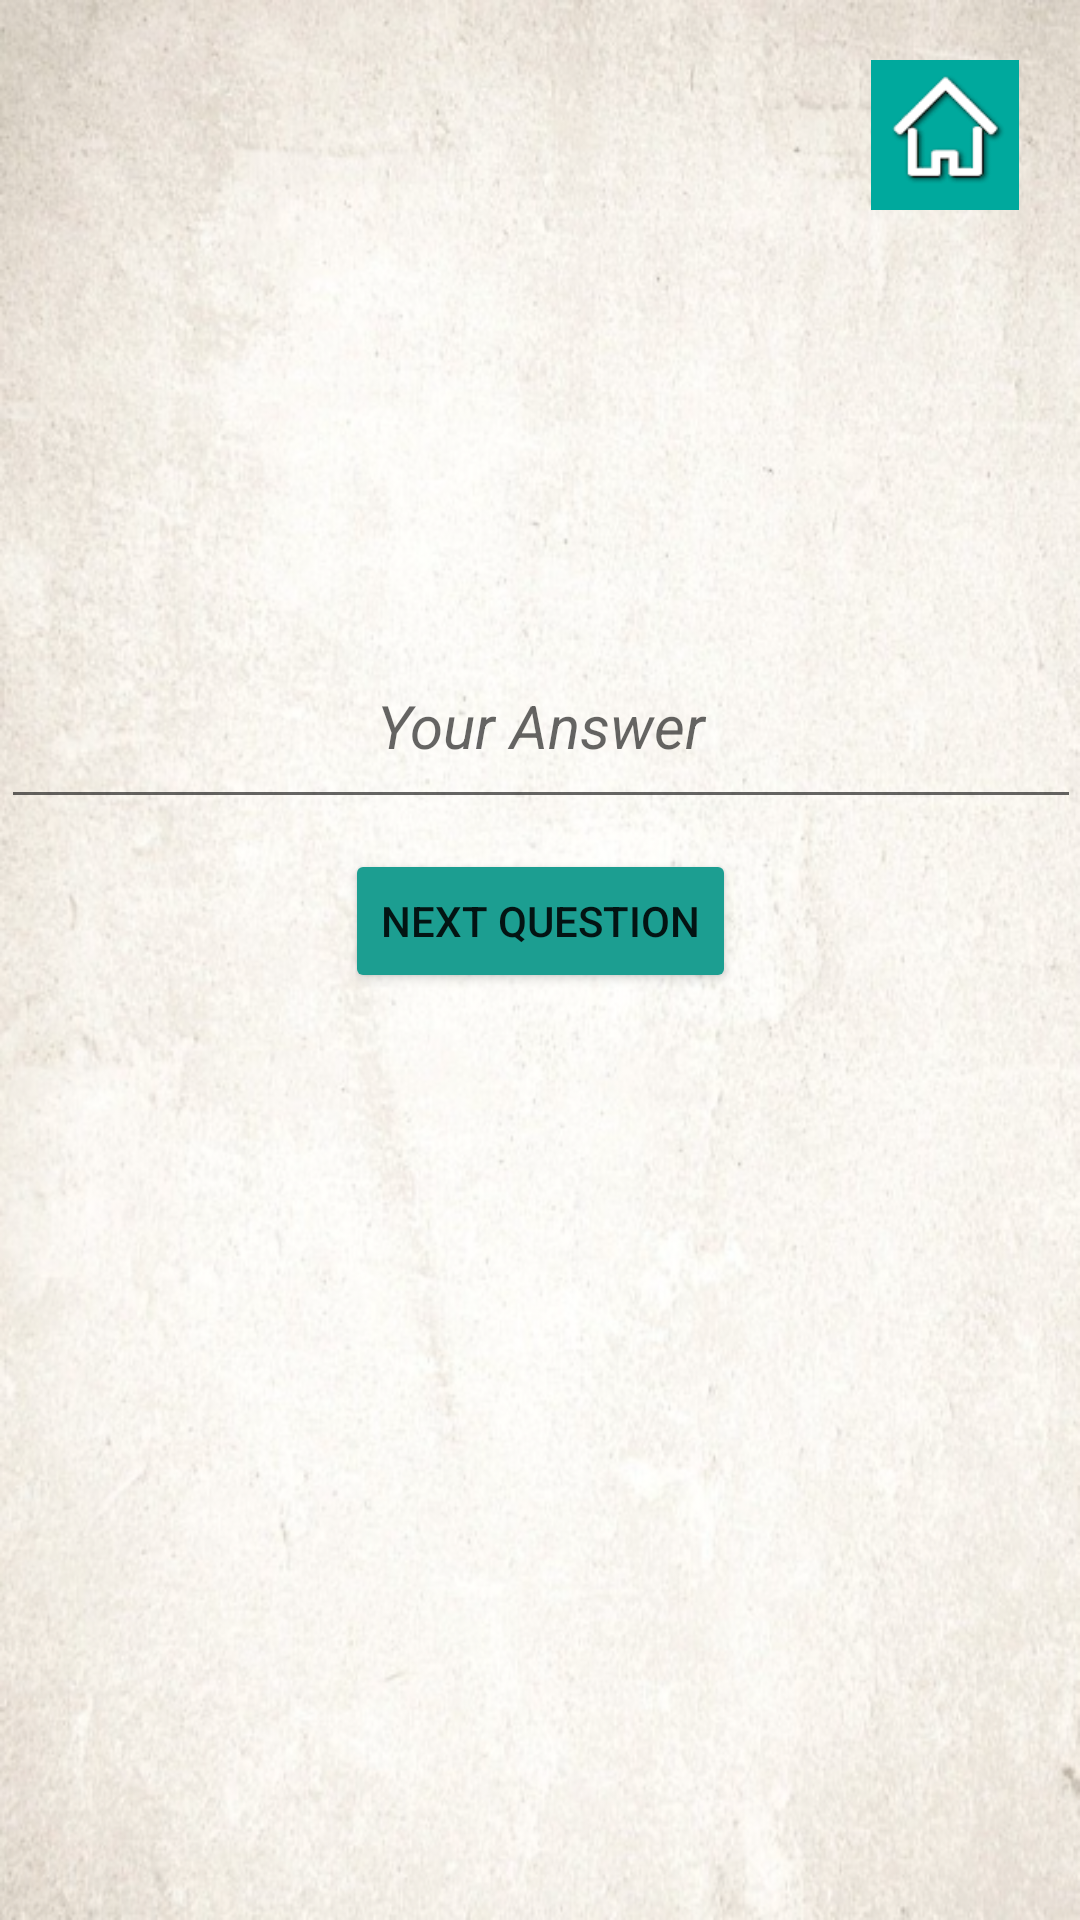

Point at icon controls on the screen. Image size 1080px x 1920px, points as (x,y).
home: (945,135)
